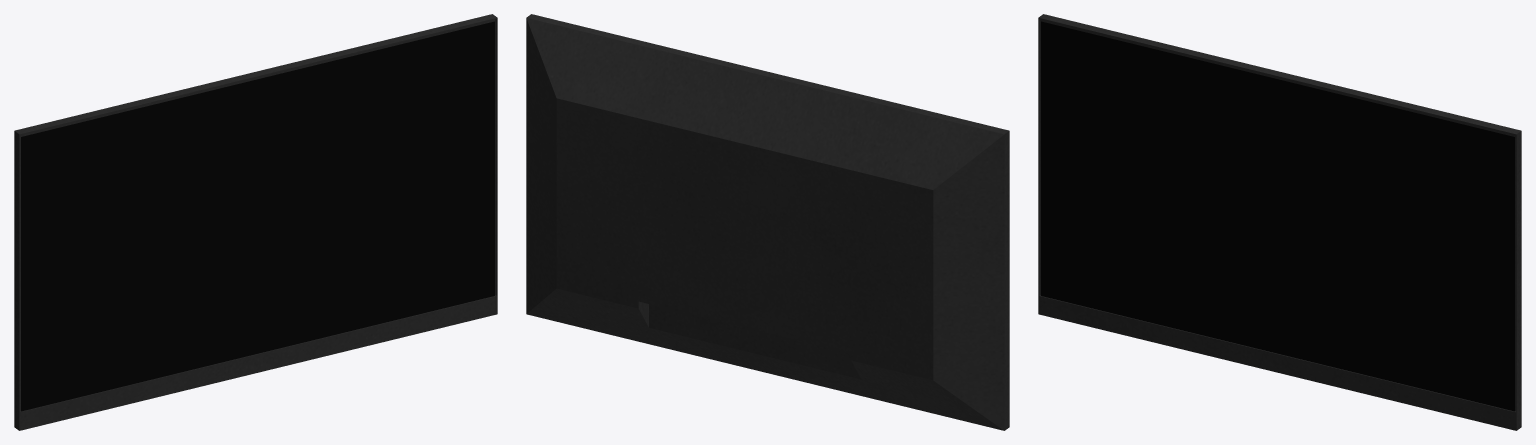
Rendered from Monitor.gltf.
3 views of the same model, side by side, from view 1: azimuth 30°, elevation 25°; view 2: azimuth 150°, elevation 25°; view 3: azimuth 330°, elevation 25° (orthographic).
Parts seen in each view (by area): view 1: Plane, Solid1; view 2: Solid1; view 3: Plane, Solid1.
Boxes of the visible parts, x1,y1,x2,y2 form: Plane: (21,21,494,411); Solid1: (14,14,497,430); Solid1: (526,14,1009,430); Plane: (1041,21,1514,411); Solid1: (1038,14,1521,430).
Size of the model in its own units: 0.54 by 0.32 by 0.0502.
2 materials, 1 textured.
